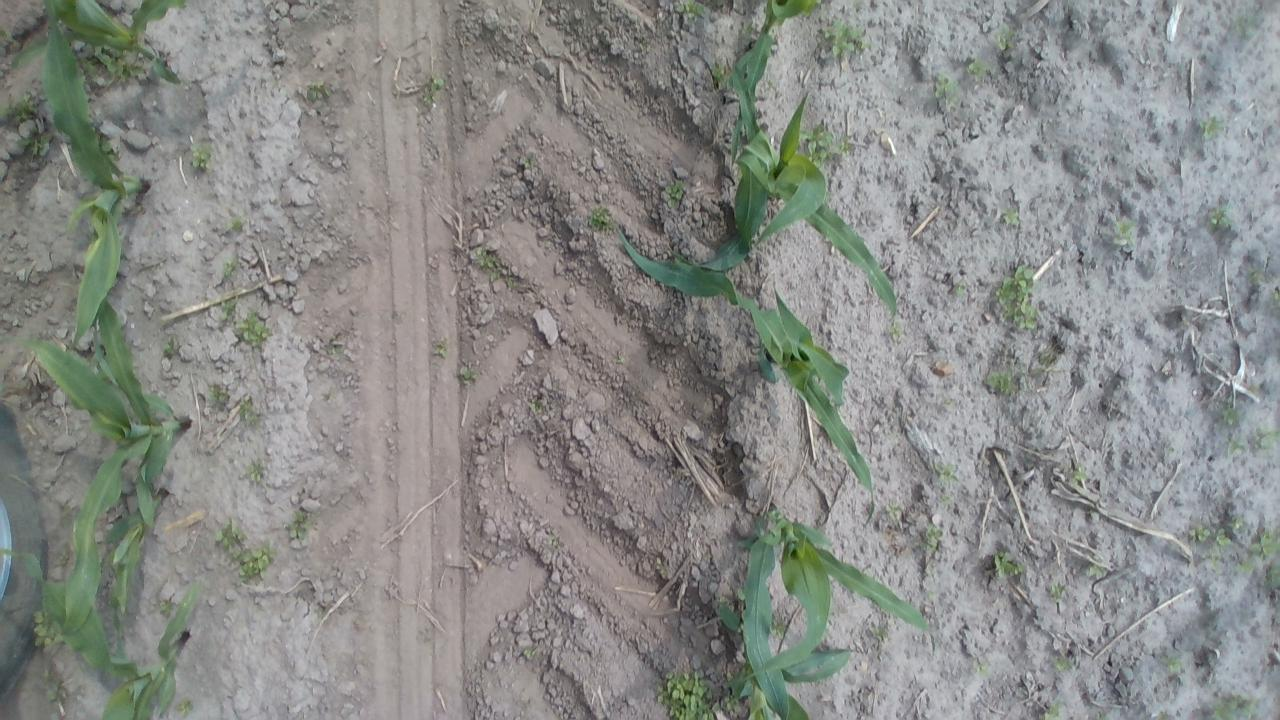Maize: (11, 266, 192, 650), (634, 235, 876, 500), (623, 98, 887, 330), (8, 488, 208, 718), (719, 507, 932, 718), (42, 14, 152, 349), (4, 0, 195, 92), (728, 0, 824, 179)
Weeds: (992, 262, 1042, 333), (655, 667, 718, 720), (80, 47, 142, 84), (806, 122, 856, 166), (822, 19, 868, 60), (471, 242, 512, 284), (234, 543, 276, 583), (1206, 693, 1262, 718), (982, 364, 1022, 398), (1192, 516, 1236, 546), (238, 310, 273, 347), (990, 547, 1025, 583), (2, 91, 38, 123), (212, 520, 248, 552), (931, 72, 960, 110), (30, 612, 60, 648), (284, 510, 316, 542), (1250, 526, 1277, 562), (1108, 215, 1137, 248), (419, 72, 447, 106), (18, 127, 52, 155), (584, 205, 614, 236), (301, 79, 336, 105), (186, 141, 214, 172), (1186, 521, 1222, 545), (993, 21, 1018, 55), (662, 179, 688, 211), (1196, 116, 1226, 142), (1207, 200, 1233, 230), (1164, 649, 1188, 681), (236, 396, 262, 425), (243, 458, 269, 487), (922, 524, 946, 554), (1212, 401, 1241, 425), (42, 672, 64, 703), (674, 0, 705, 22), (1232, 15, 1258, 41), (454, 360, 480, 385), (712, 58, 733, 88), (203, 383, 228, 406), (964, 58, 990, 80), (769, 610, 791, 636), (1082, 560, 1110, 580), (1038, 698, 1066, 718), (934, 461, 958, 484), (216, 298, 238, 323), (1254, 428, 1276, 453), (1224, 435, 1248, 457), (1261, 560, 1276, 594), (431, 336, 454, 358), (882, 502, 904, 524), (1002, 204, 1023, 227), (1070, 462, 1090, 485), (1052, 652, 1075, 672), (162, 334, 181, 358), (156, 598, 177, 619), (228, 215, 248, 237), (176, 696, 198, 716), (222, 256, 242, 278), (1048, 580, 1068, 600), (972, 658, 991, 678), (1247, 267, 1265, 288), (1227, 512, 1244, 534), (1236, 556, 1254, 576), (526, 396, 544, 416), (952, 278, 970, 298), (887, 320, 906, 338), (871, 624, 892, 640), (542, 532, 560, 550), (922, 588, 940, 606), (521, 152, 538, 170), (740, 21, 754, 41), (522, 646, 538, 662), (1206, 554, 1222, 570), (310, 603, 326, 617)
